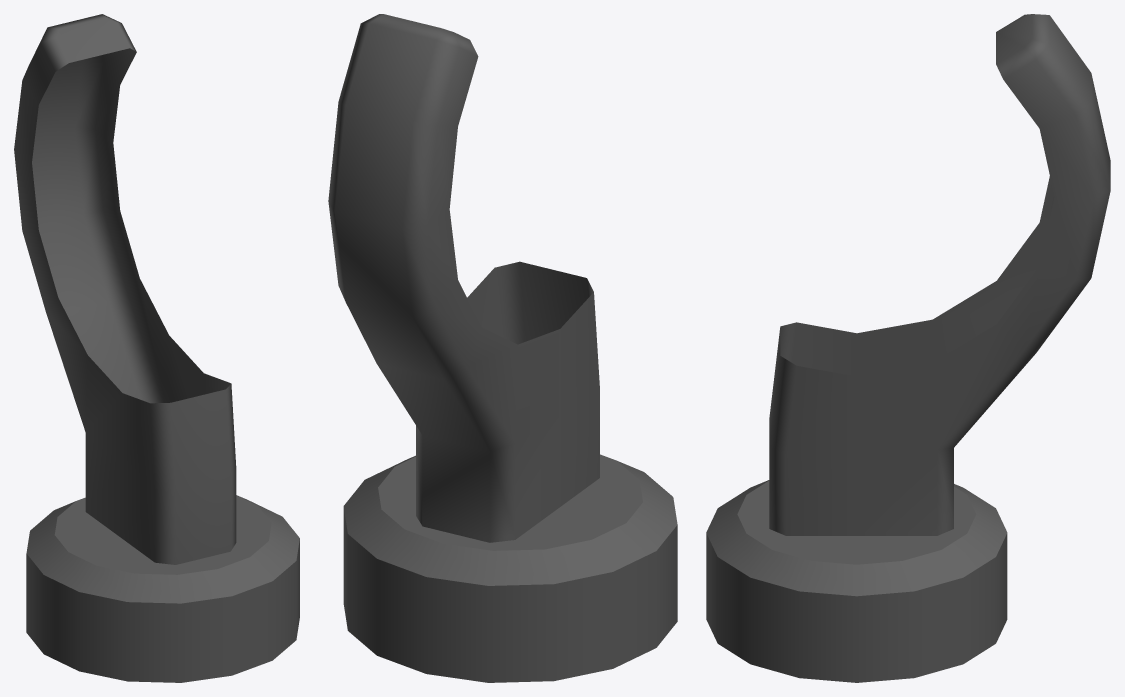
File: Turret_007_Part_01.fbx
The picture shows the model from 3 angles, left to right: view 1: azimuth 30°, elevation 25°; view 2: azimuth 150°, elevation 25°; view 3: azimuth 270°, elevation 25°; orthographic projection. The views are drawn at different scales.
Visible parts, largest first — view 1: Turret_007_Part_01; view 2: Turret_007_Part_01; view 3: Turret_007_Part_01.
Boxes of the visible parts, box(x1,y1,x2,y2) form: Turret_007_Part_01: box(14, 14, 299, 682); Turret_007_Part_01: box(328, 14, 677, 682); Turret_007_Part_01: box(706, 14, 1110, 682).
Bounding box in the file's own units: 51.06 × 68.56 × 111.
